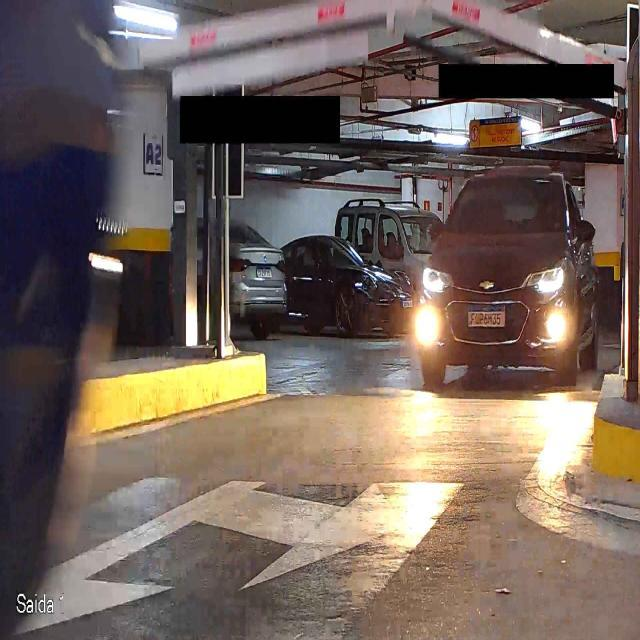mercosul_plate: (466, 304, 507, 328)
